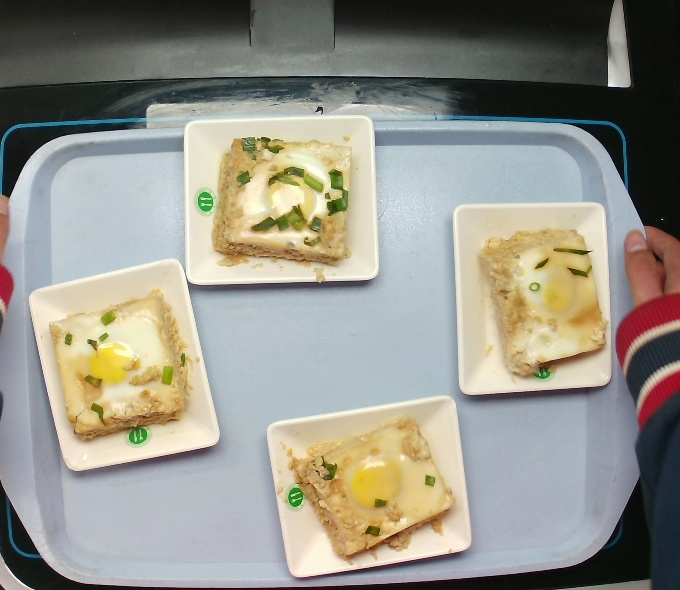wcq-RouMoZhengDan: (282, 407, 458, 575), (197, 121, 370, 289), (38, 280, 201, 454), (475, 211, 612, 382)
